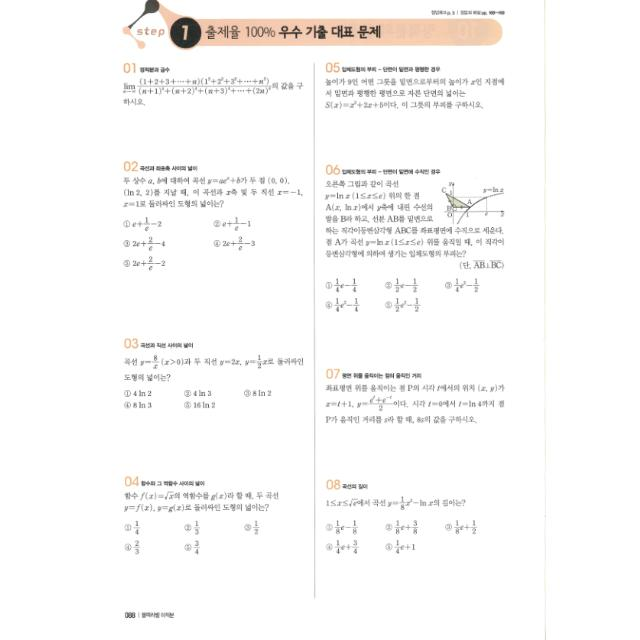multiple: (320, 157, 510, 325), (114, 154, 306, 278), (114, 466, 308, 560), (320, 470, 512, 560), (115, 329, 308, 416)
short: (318, 360, 512, 432), (110, 55, 308, 117), (319, 54, 509, 114)
